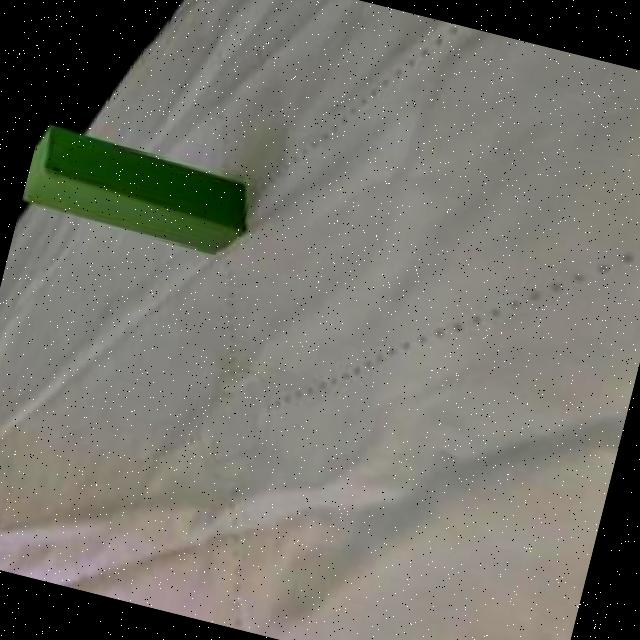greenbox: (18, 122, 262, 261)
